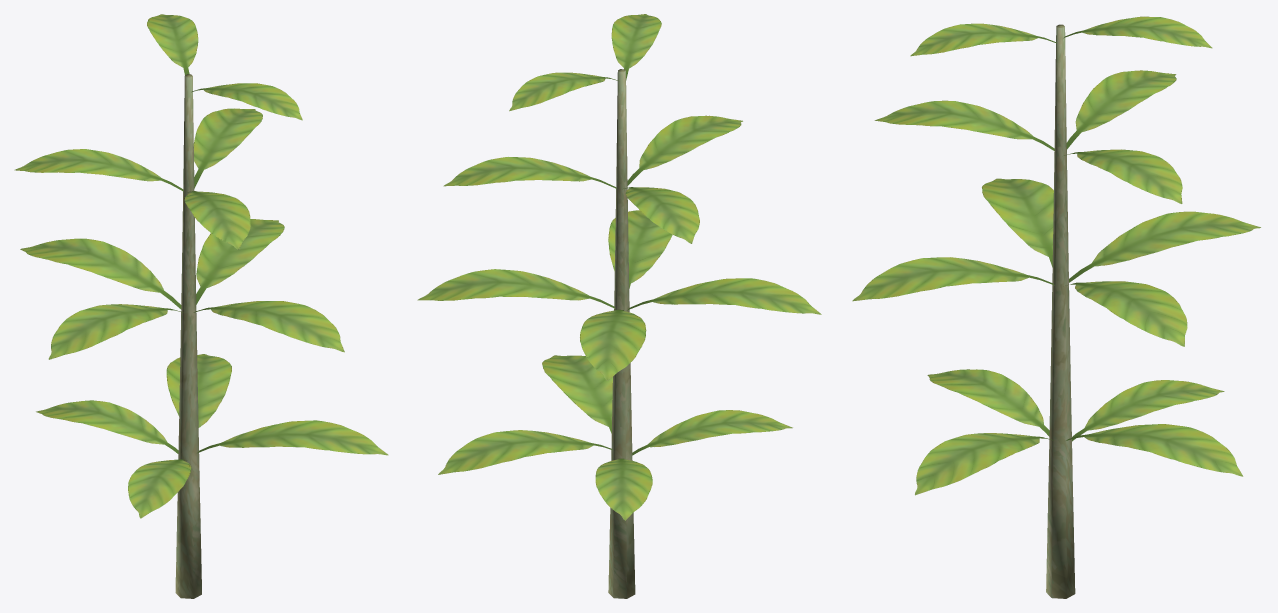
The model's file is Model_PeBrotoCacauTexture_v1.fbx.
The picture shows the model from 3 angles, left to right: view 1: azimuth 30°, elevation 25°; view 2: azimuth 150°, elevation 25°; view 3: azimuth 270°, elevation 25°; orthographic projection. The views are drawn at different scales.
Visible parts, largest first — view 1: NurbsPath.001; view 2: NurbsPath.001; view 3: NurbsPath.001.
Part boxes in pixels (x1=…): NurbsPath.001: x1=14, y1=14, x2=388, y2=598; NurbsPath.001: x1=417, y1=14, x2=821, y2=598; NurbsPath.001: x1=852, y1=16, x2=1260, y2=598.
Bounding box in the file's own units: 80.62 × 128 × 82.73.
Materials: 1 (1 with a texture image).
